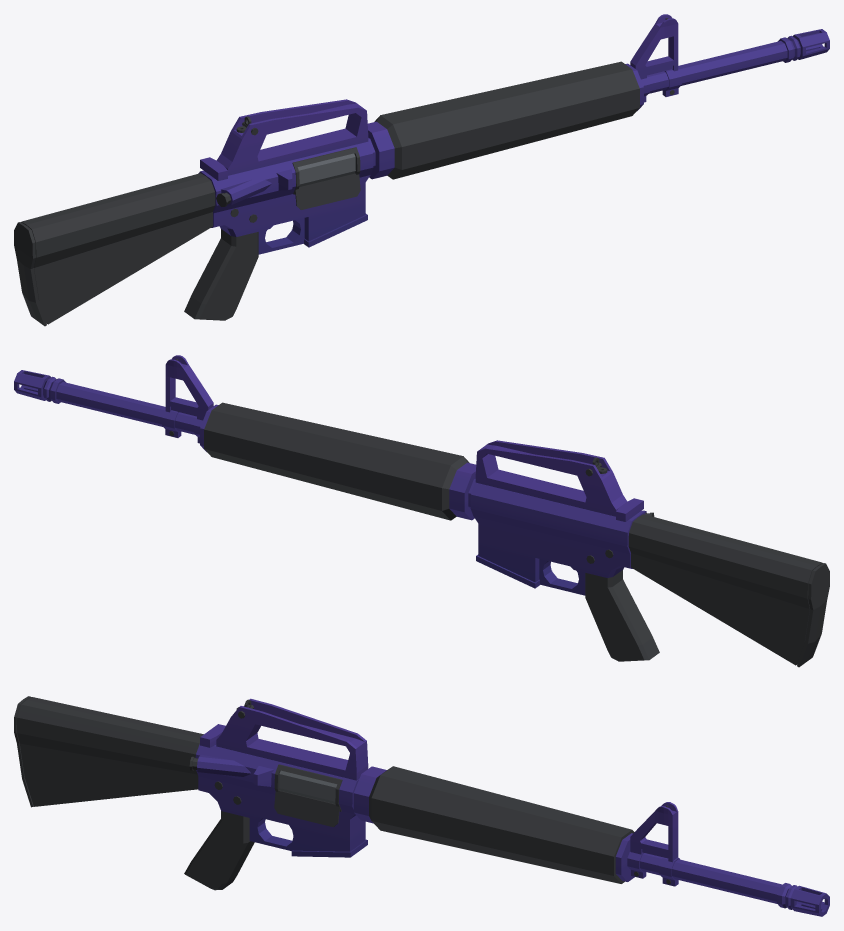
The model's file is SM_AssaultRifle4_06.glb.
3 views of the same model, one above another, from view 1: azimuth 30°, elevation 25°; view 2: azimuth 150°, elevation 25°; view 3: azimuth 330°, elevation 25° (orthographic).
Parts seen in each view (by area): view 1: SM_AssaultRifle4_06; view 2: SM_AssaultRifle4_06; view 3: SM_AssaultRifle4_06.
Part boxes in pixels (box(x1,y1,x2,y2)): SM_AssaultRifle4_06: box(14, 14, 829, 326); SM_AssaultRifle4_06: box(14, 355, 829, 667); SM_AssaultRifle4_06: box(14, 696, 829, 916).
Size of the model in its own units: 1.04 by 0.2381 by 0.0756.
1 material, 1 textured.
